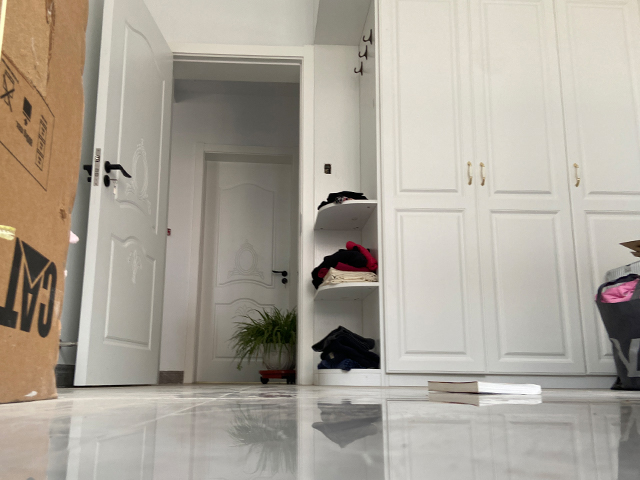book: (427, 379, 542, 396)
cabinet: (312, 58, 639, 387)
